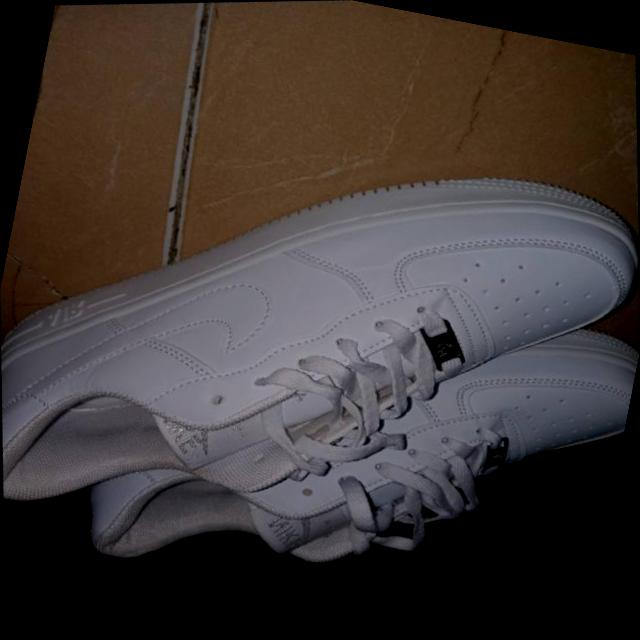nike_fake_airforce: (0, 57, 640, 631), (35, 218, 640, 640)
